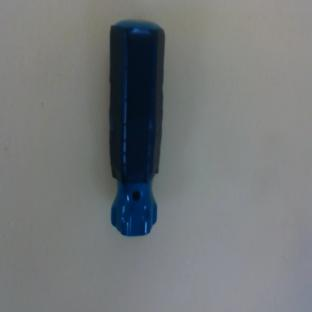part_2_bad: (106, 20, 165, 236)
